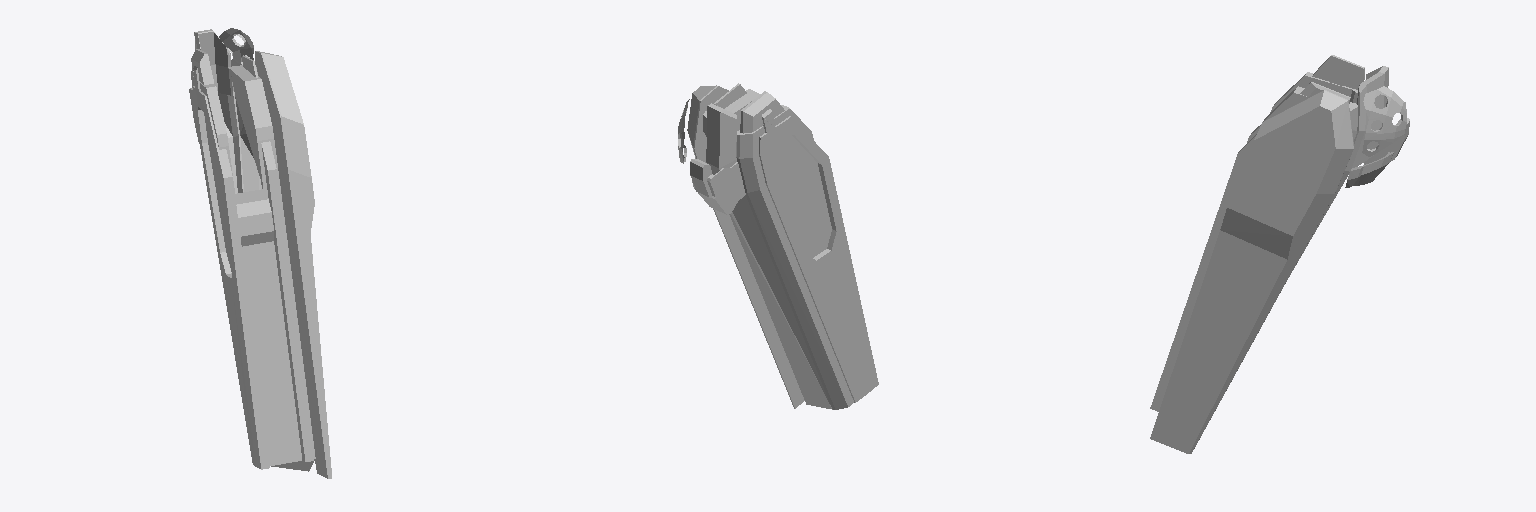
The model's file is leftLowerArm.obj.
3 renders of one model, left to right at view 1: azimuth 30°, elevation 25°; view 2: azimuth 150°, elevation 25°; view 3: azimuth 270°, elevation 25°, orthographic.
Visible parts, largest first — view 1: leftLowerArm1; view 2: leftLowerArm1; view 3: leftLowerArm1.
Part boxes in pixels (x1,y1,x2,y2): leftLowerArm1: (189, 28, 331, 478); leftLowerArm1: (678, 83, 878, 409); leftLowerArm1: (1150, 55, 1409, 453).
Size of the model in its own units: 0.4945 by 1.69 by 1.06.